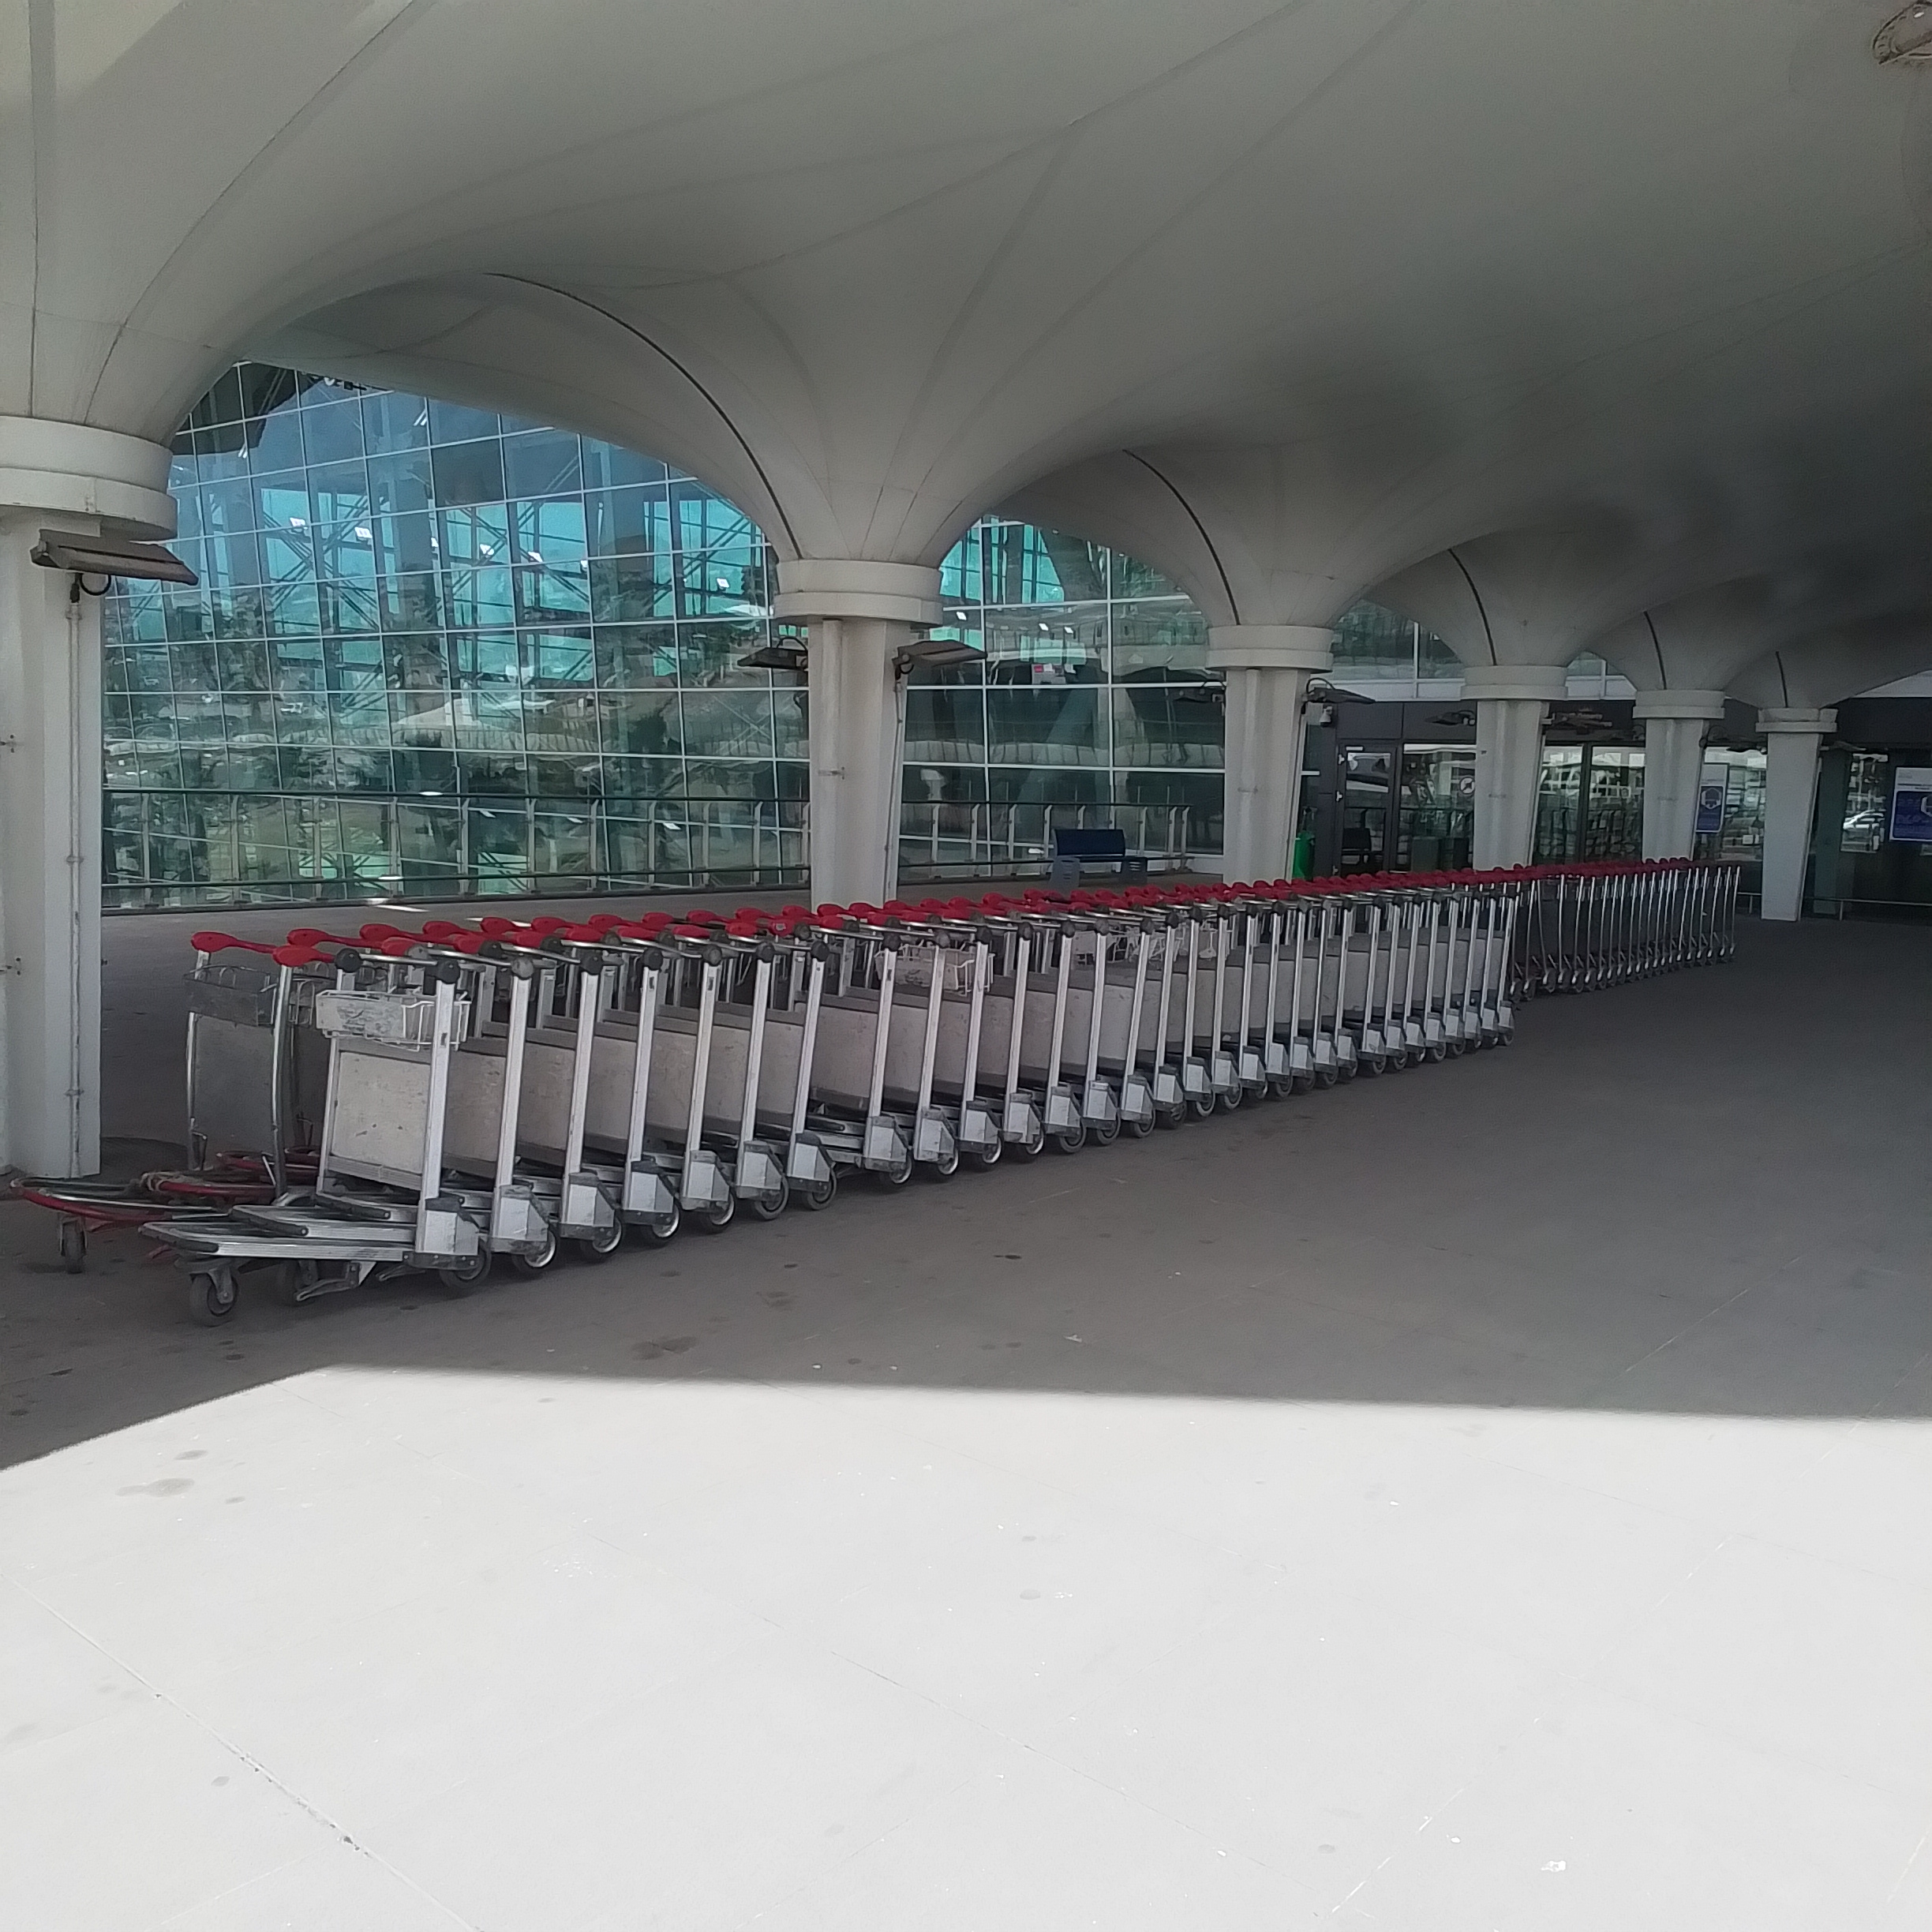airport-trolley: (173, 947, 488, 1297), (4, 934, 322, 1238), (418, 945, 552, 1283), (524, 934, 628, 1269), (596, 929, 685, 1256), (653, 927, 732, 1249), (824, 925, 909, 1203), (764, 925, 837, 1224), (718, 932, 778, 1247), (897, 922, 957, 1192), (948, 916, 998, 1185), (1070, 908, 1120, 1157), (994, 916, 1042, 1168), (1037, 916, 1083, 1162), (1111, 911, 1155, 1150), (1145, 897, 1185, 1154), (1249, 885, 1293, 1113), (1357, 885, 1407, 1081), (1203, 892, 1242, 1136), (1178, 890, 1215, 1145), (1235, 888, 1272, 1120), (1330, 890, 1368, 1085), (1309, 895, 1343, 1090), (1419, 885, 1454, 1069), (1281, 886, 1311, 1102), (1380, 888, 1407, 1077), (1477, 879, 1502, 1058), (1454, 881, 1477, 1063), (1497, 883, 1520, 1058)
